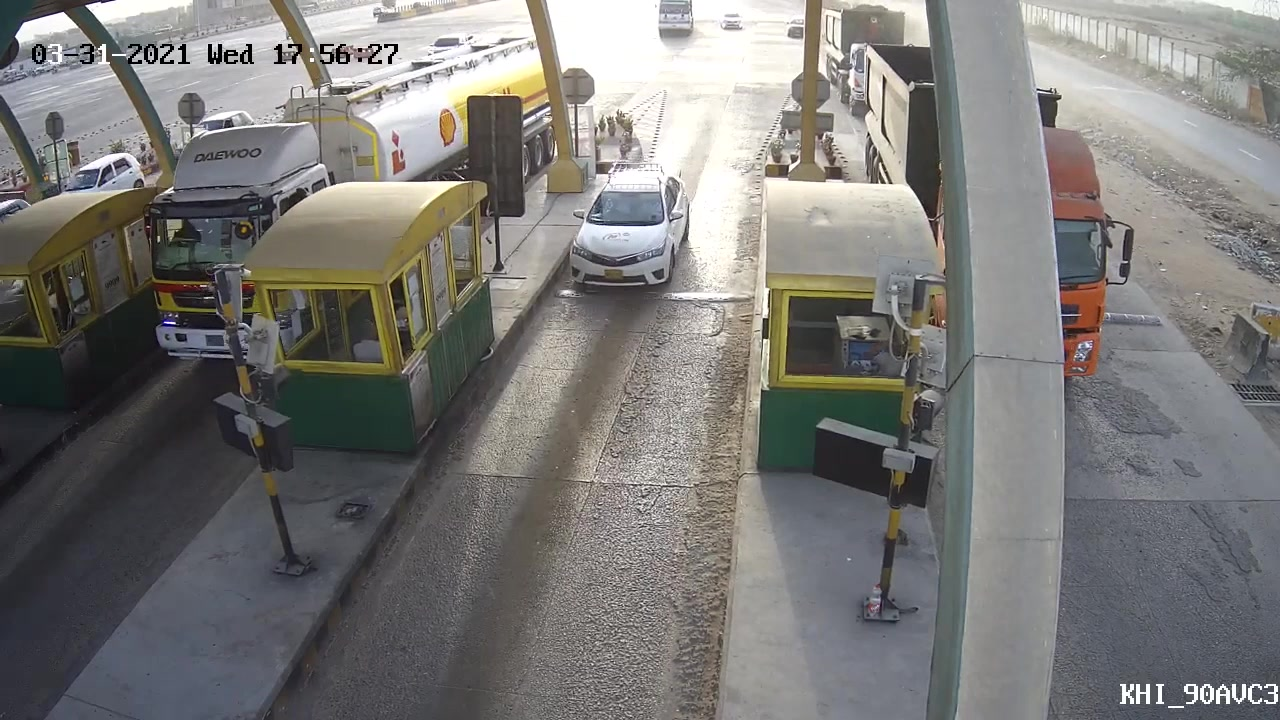F1: (561, 156, 697, 291)
